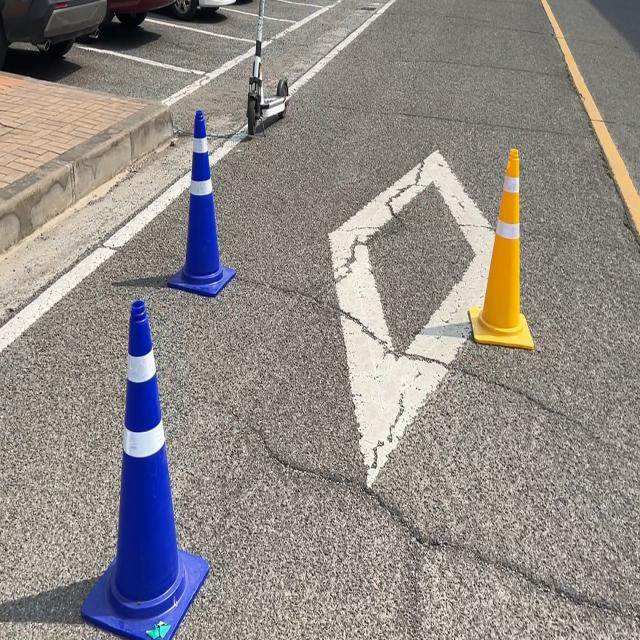b_rub: (81, 299, 209, 640), (168, 108, 236, 295)
y_rub: (470, 147, 535, 349)
